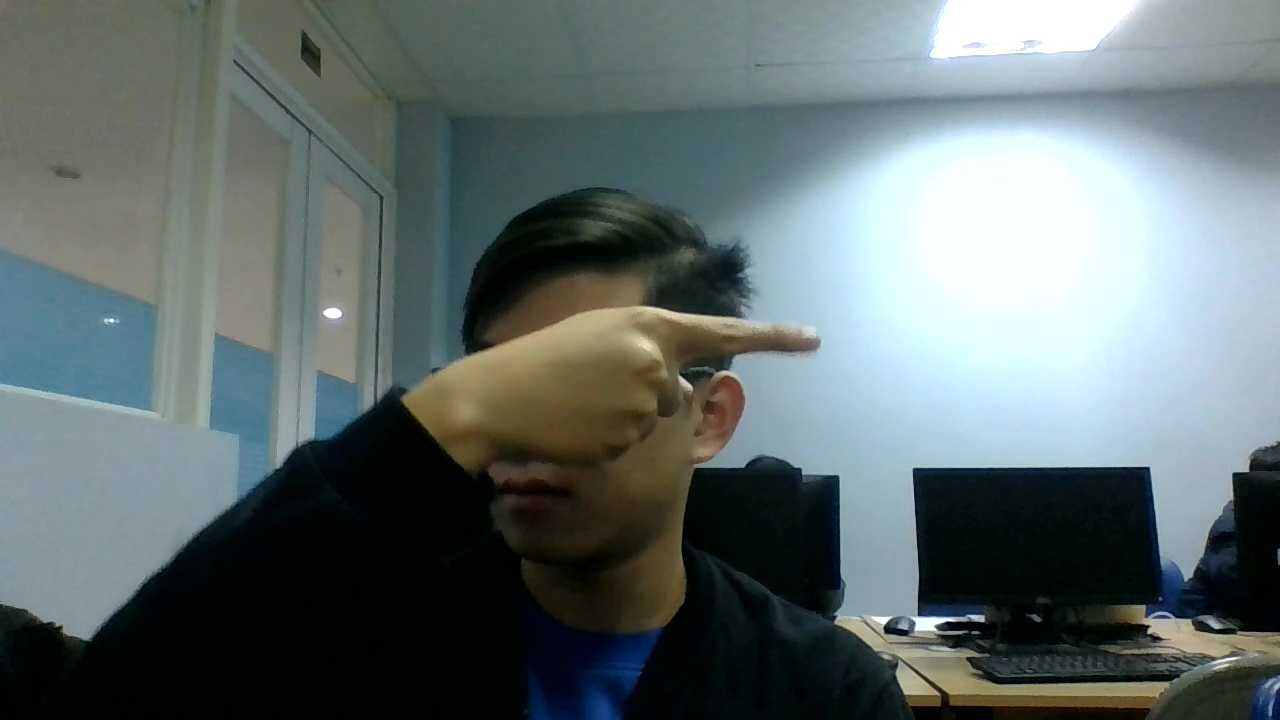left: (471, 308, 822, 460)
